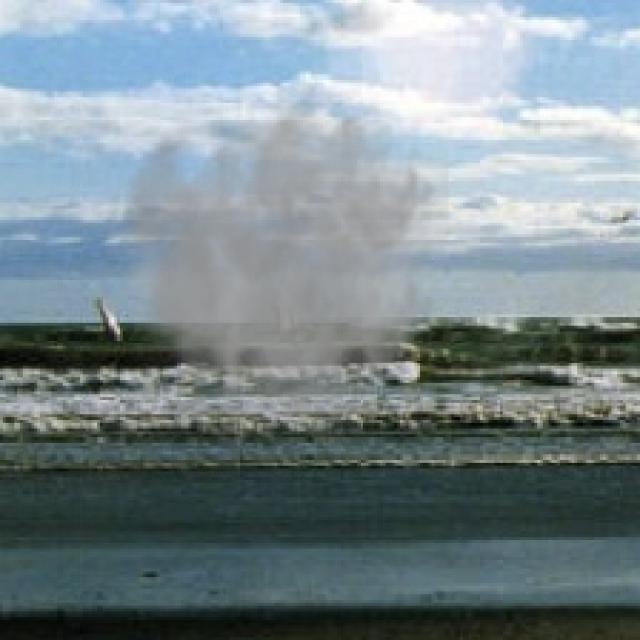smoke: (91, 86, 448, 451)
